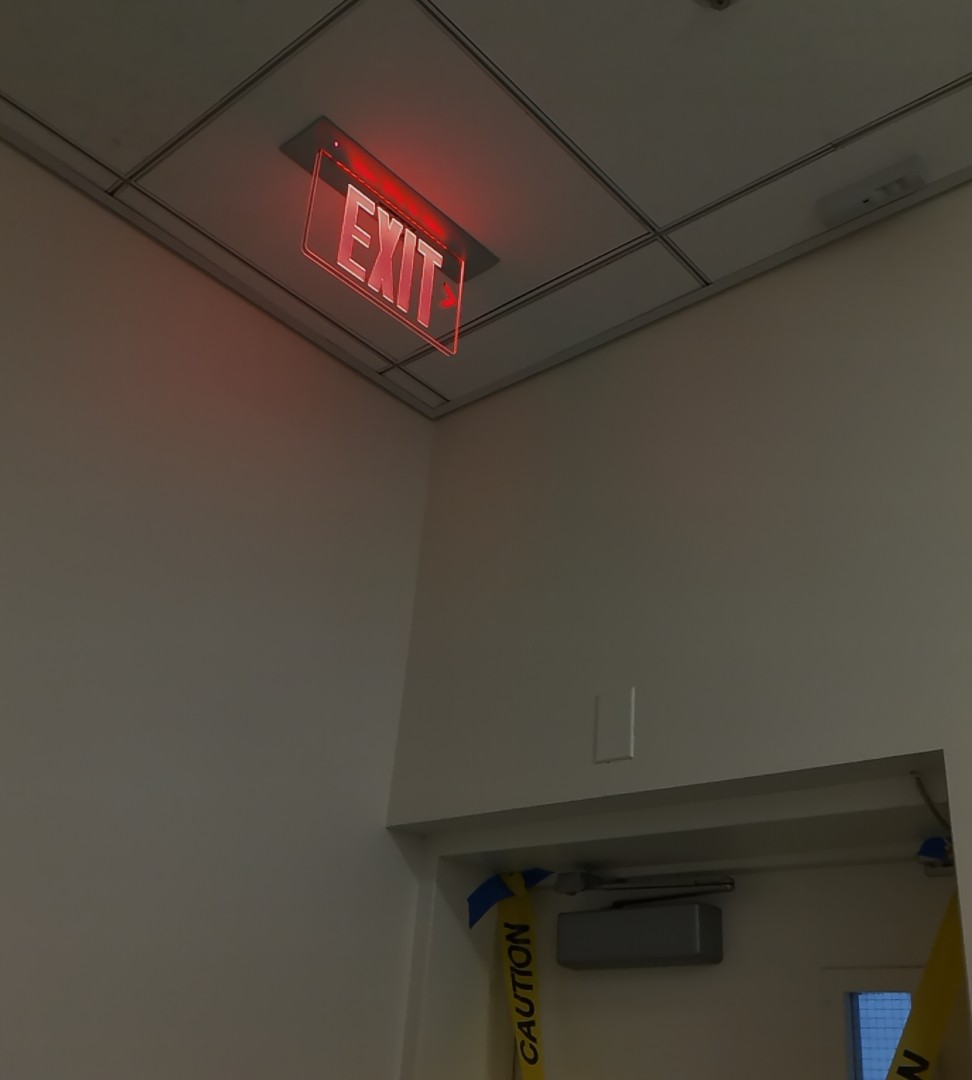emergency_exit: (297, 144, 470, 359)
